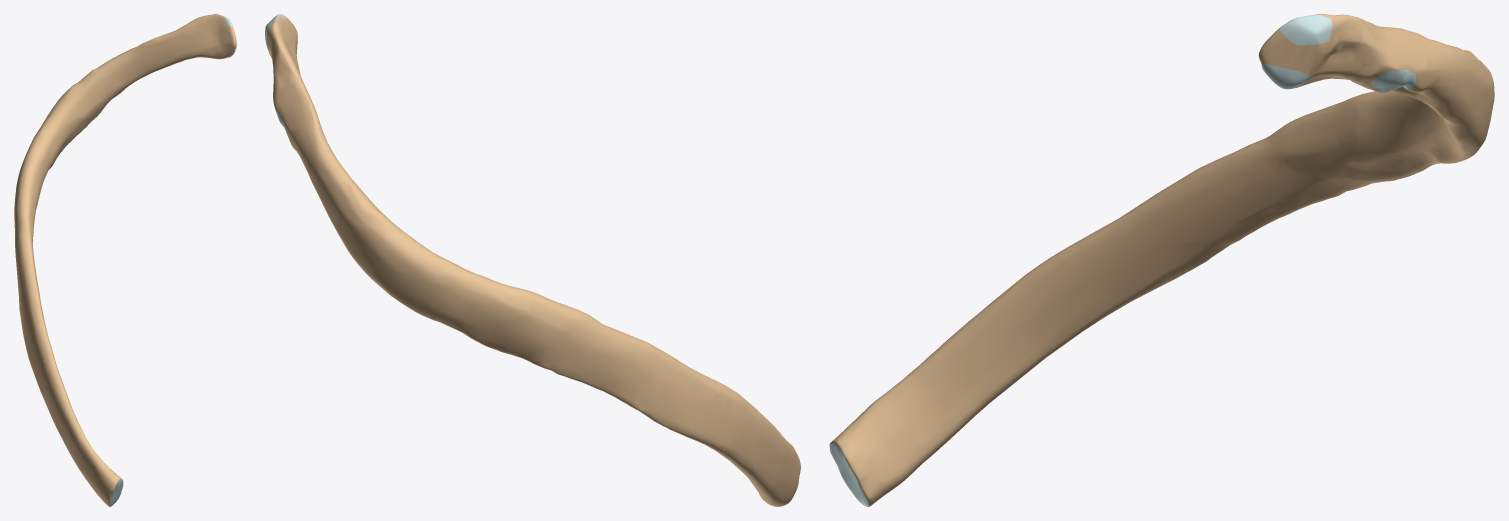
The model's file is 9th_rib.r_Generated_Mesh_From_X3D.888.glb.
3 renders of one model, left to right at view 1: azimuth 30°, elevation 25°; view 2: azimuth 150°, elevation 25°; view 3: azimuth 270°, elevation 25°, orthographic. The views are drawn at different scales.
Parts seen in each view (by area): view 1: 9th_rib.r_Generated_Mesh_From_X3D.888; view 2: 9th_rib.r_Generated_Mesh_From_X3D.888; view 3: 9th_rib.r_Generated_Mesh_From_X3D.888.
Boxes of the visible parts, box(x1,y1,x2,y2) form: 9th_rib.r_Generated_Mesh_From_X3D.888: box(14, 14, 236, 506); 9th_rib.r_Generated_Mesh_From_X3D.888: box(265, 14, 800, 506); 9th_rib.r_Generated_Mesh_From_X3D.888: box(829, 14, 1494, 506).
Size of the model in its own units: 0.1152 by 0.1551 by 0.1324.
